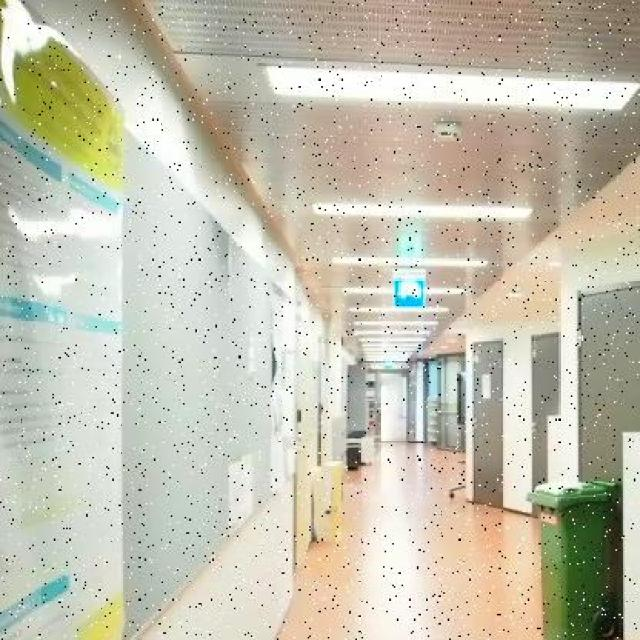emergency_exit: (392, 272, 428, 308)
